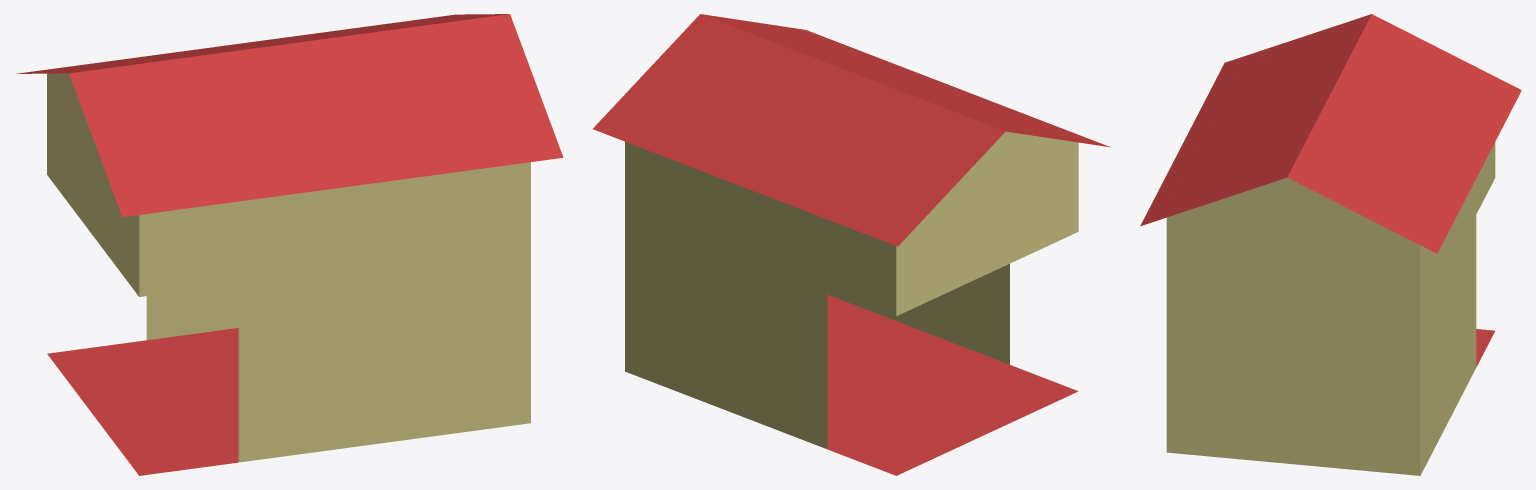
3 views of the same model, side by side, from view 1: azimuth 30°, elevation 25°; view 2: azimuth 150°, elevation 25°; view 3: azimuth 270°, elevation 25° (orthographic). The views are drawn at different scales.
Size of the model in its own units: 15.27 by 12.89 by 11.02.
